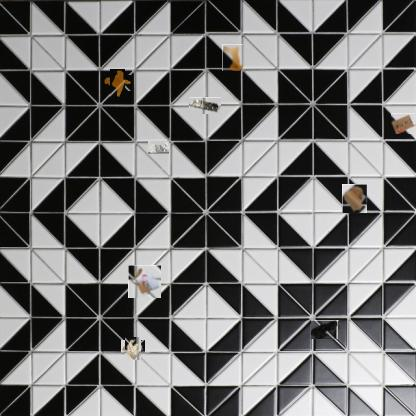dirty: (128, 265, 161, 298), (341, 185, 368, 212), (189, 97, 221, 114), (312, 320, 340, 339), (392, 113, 416, 134), (123, 338, 143, 358), (147, 140, 170, 154)
liquid: (222, 44, 243, 71), (106, 72, 128, 94)
